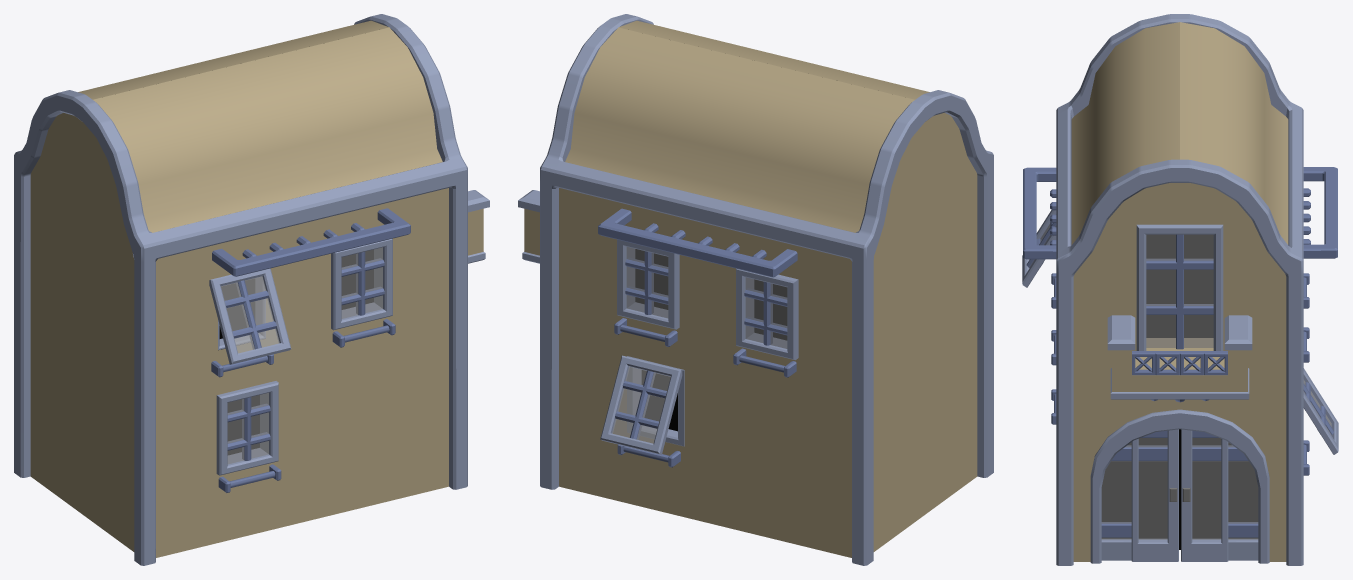
The model's file is Port House.fbx.
The picture shows the model from 3 angles, left to right: view 1: azimuth 30°, elevation 25°; view 2: azimuth 150°, elevation 25°; view 3: azimuth 270°, elevation 25°; orthographic projection. The views are drawn at different scales.
Visible parts, largest first — view 1: Port_House_1; view 2: Port_House_1; view 3: Port_House_1.
Boxes of the visible parts, x1,y1,x2,y2 form: Port_House_1: [14, 14, 489, 565]; Port_House_1: [518, 14, 993, 565]; Port_House_1: [1022, 14, 1338, 565].
Size of the model in its own units: 1386 by 1477 by 1059.
